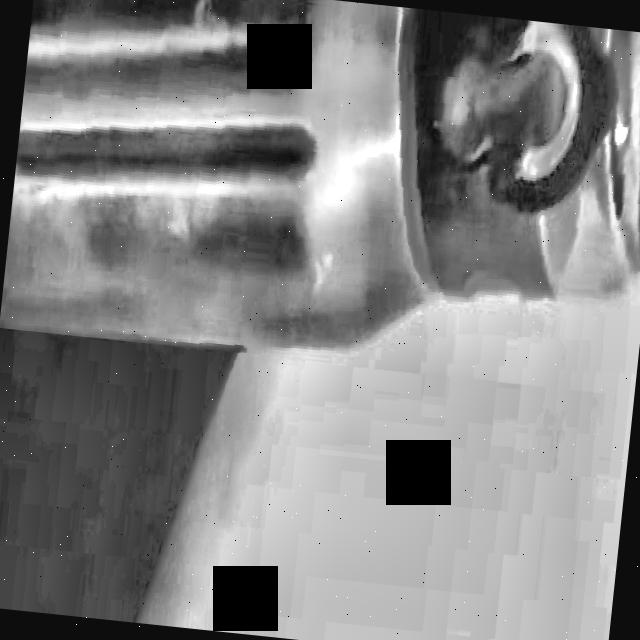bottle: (3, 0, 640, 349)
